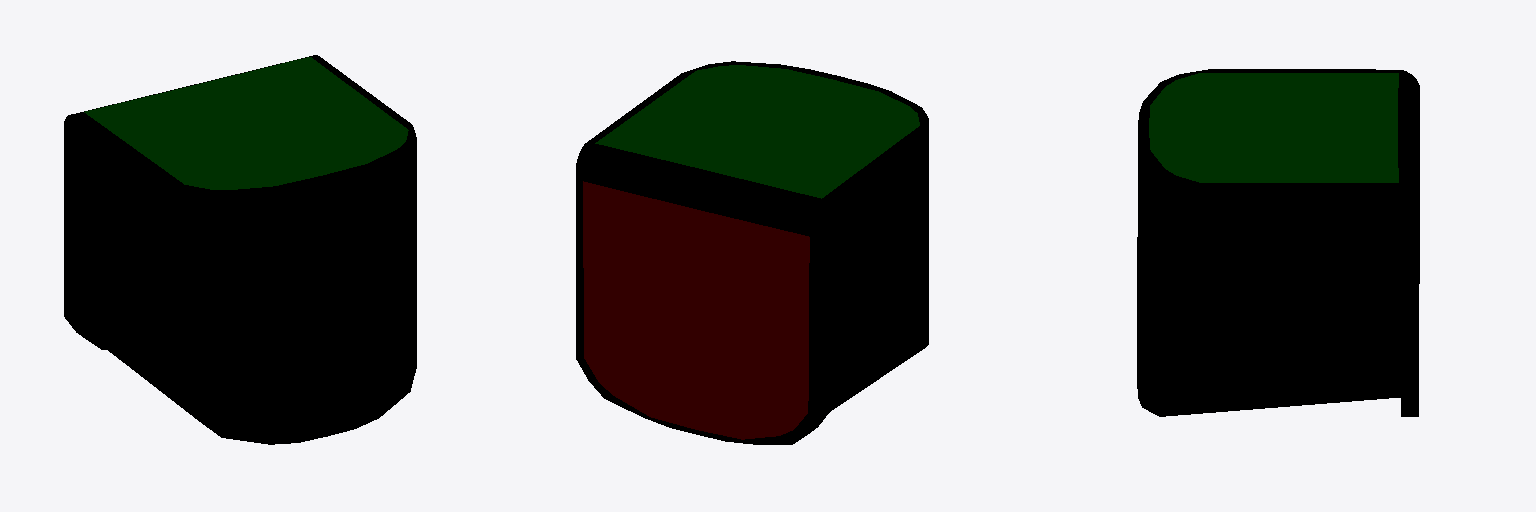
File: edgeGR.obj
3 views of the same model, side by side, from view 1: azimuth 30°, elevation 25°; view 2: azimuth 150°, elevation 25°; view 3: azimuth 270°, elevation 25° (orthographic).
Visible parts, largest first — view 1: BasicEdge_Plane.006, EdgeSide1_Plane.008; view 2: EdgeSide2_Plane.009, BasicEdge_Plane.006, EdgeSide1_Plane.008; view 3: BasicEdge_Plane.006, EdgeSide1_Plane.008.
Boxes of the visible parts, <box> form: BasicEdge_Plane.006: <box>64,55,416,444</box>; EdgeSide1_Plane.008: <box>84,57,408,189</box>; EdgeSide2_Plane.009: <box>583,181,809,439</box>; BasicEdge_Plane.006: <box>576,61,928,444</box>; EdgeSide1_Plane.008: <box>595,65,919,198</box>; BasicEdge_Plane.006: <box>1137,69,1419,416</box>; EdgeSide1_Plane.008: <box>1149,73,1398,182</box>.
Size of the model in its own units: 0.18 by 0.1802 by 0.182.